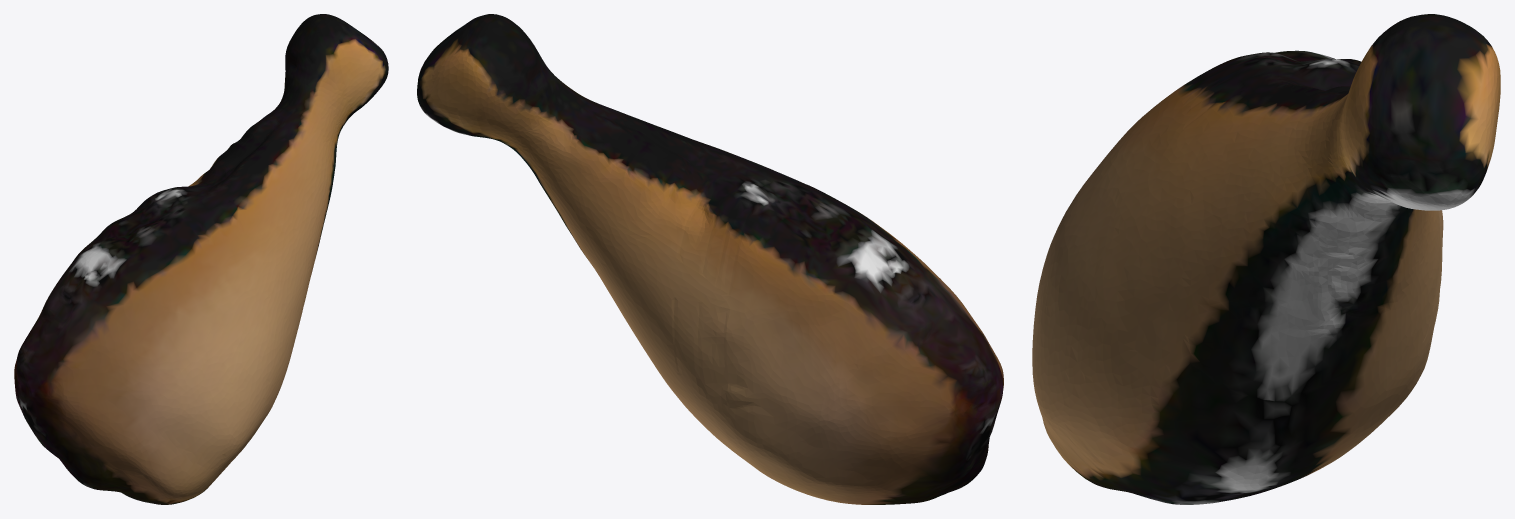
Rendered from food.glb.
3 renders of one model, left to right at view 1: azimuth 30°, elevation 25°; view 2: azimuth 150°, elevation 25°; view 3: azimuth 270°, elevation 25°, orthographic. The views are drawn at different scales.
Parts seen in each view (by area): view 1: geometry_0; view 2: geometry_0; view 3: geometry_0.
Boxes of the visible parts, x1,y1,x2,y2 form: geometry_0: [14, 14, 388, 504]; geometry_0: [417, 14, 1003, 504]; geometry_0: [1032, 14, 1500, 504].
Size of the model in its own units: 0.6562 by 0.5696 by 0.3555.
